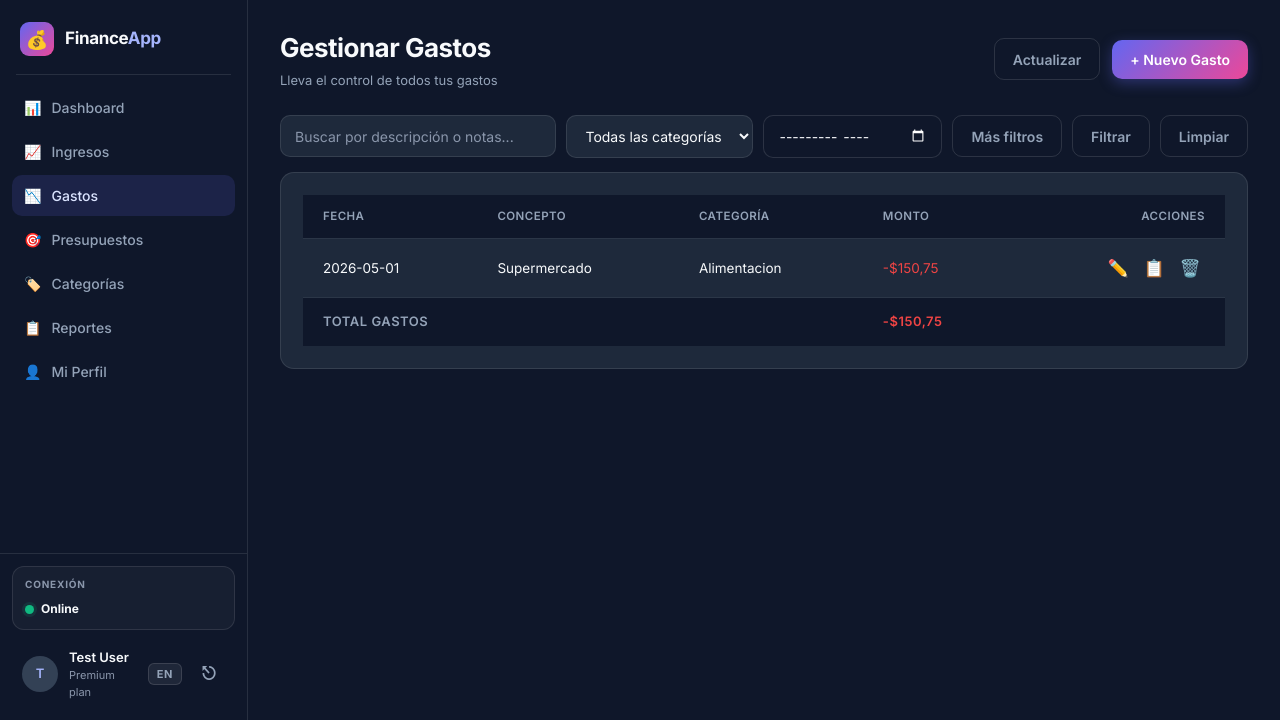
CRUD de Gastos (E2E) › Debe abrir el formulario de nuevo gasto desde la lista
What coordinates should you click on to do the following:
click the button with test id "new-expense-button"
I would click on:
 (1180, 60)
Its box is [1112,40,1248,79].
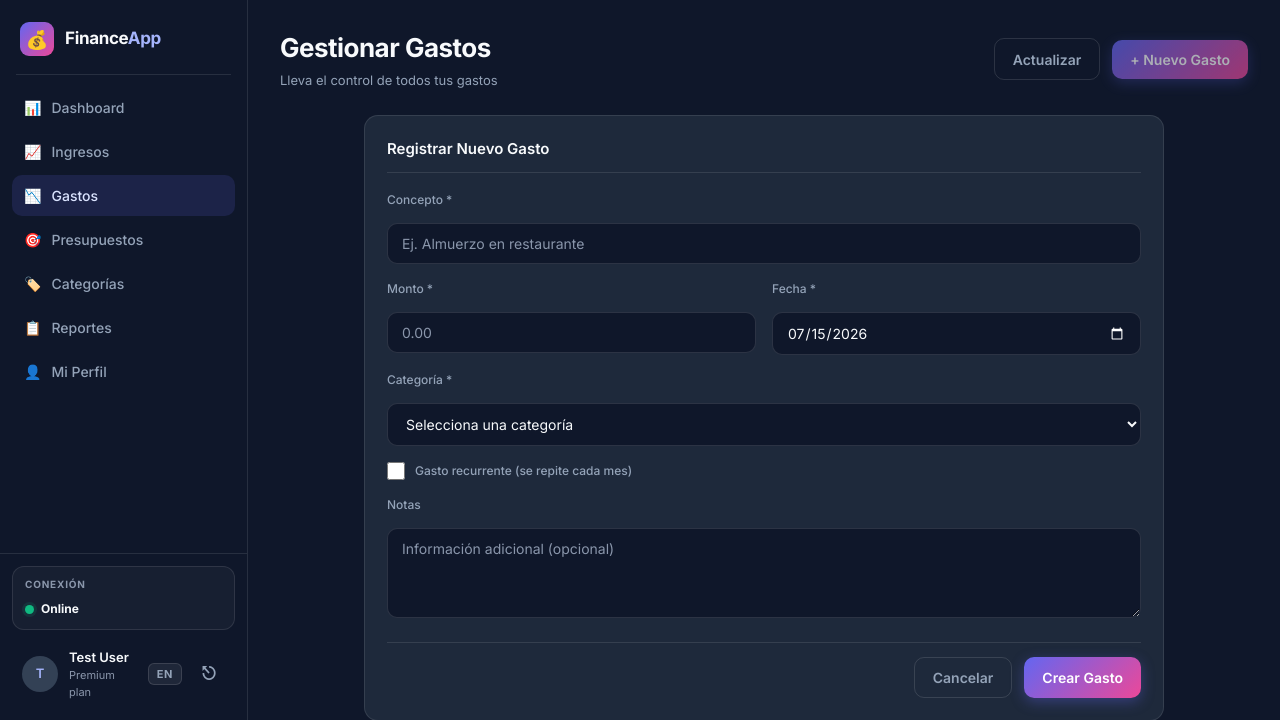
Expected: the form with test id "expense-form" is shown, [387,191,1141,698]
Expected: the field with test id "expense-concept" is shown, [387,223,1141,264]
